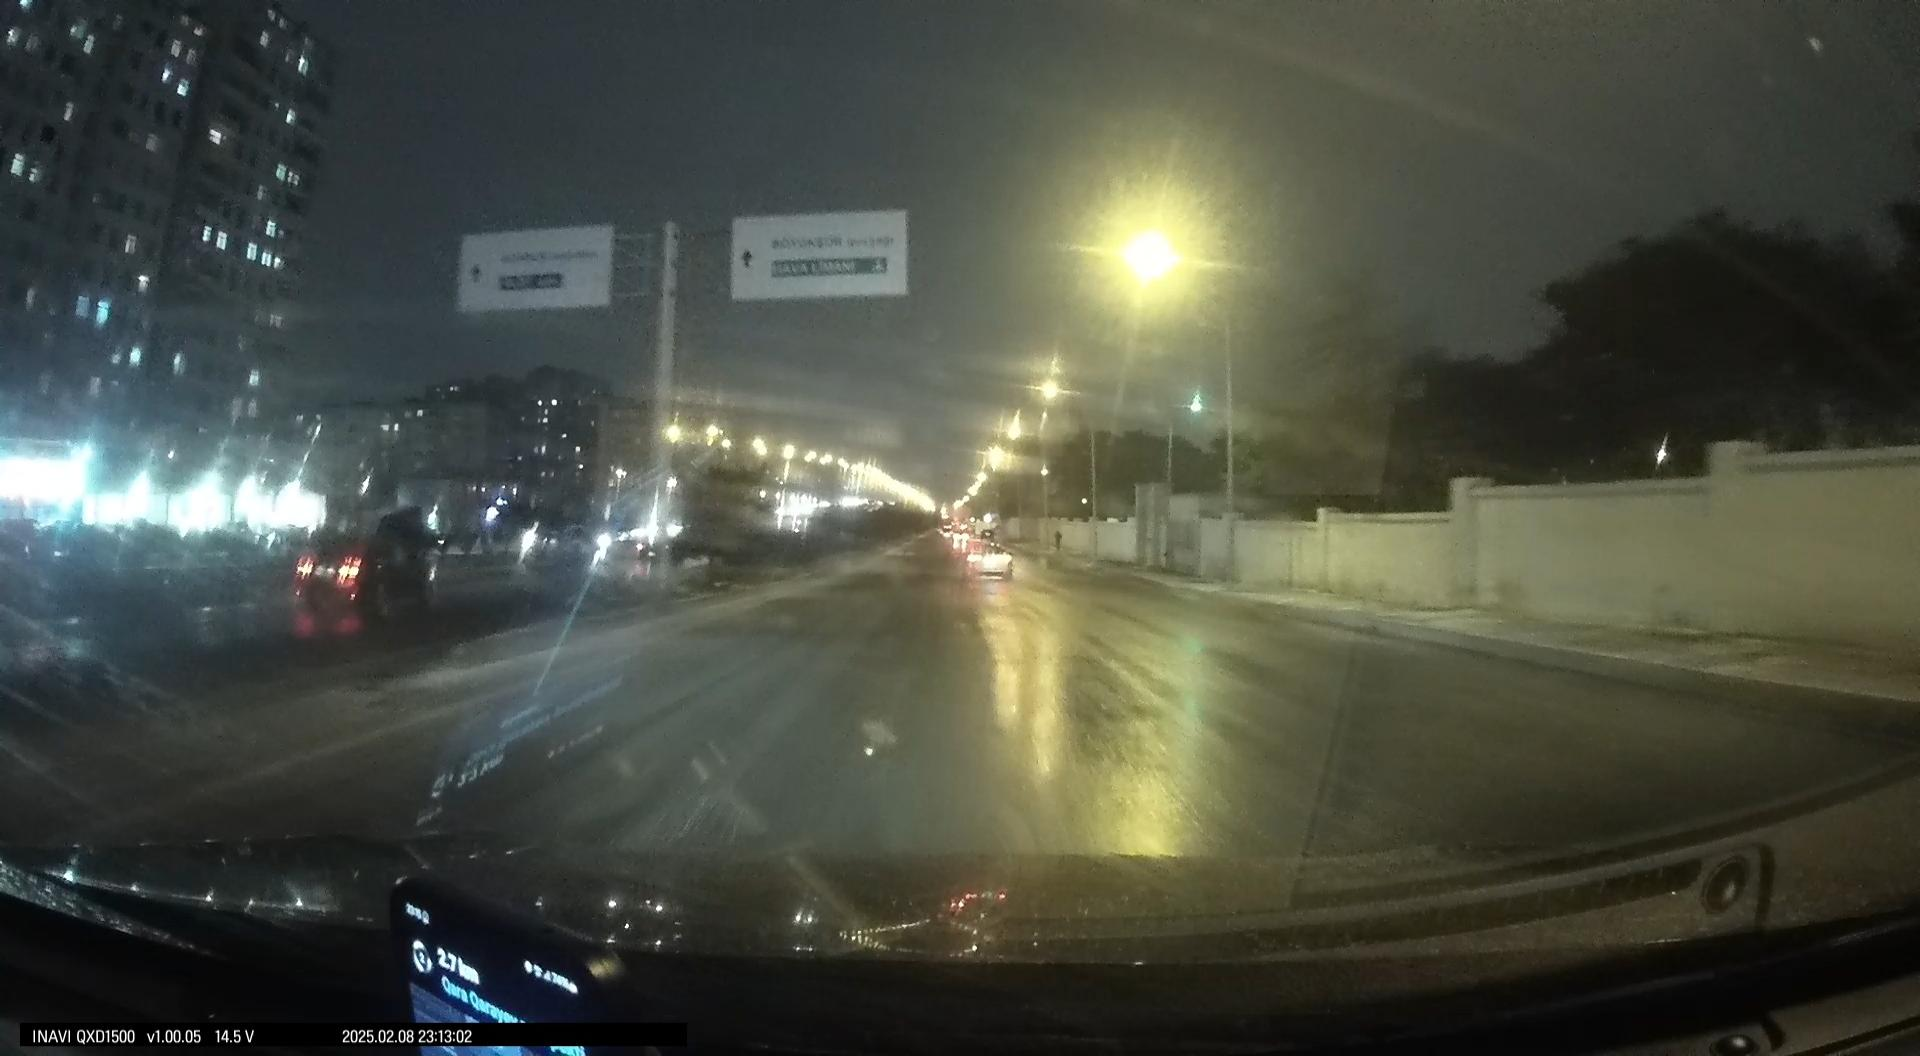banner: (729, 209, 909, 303), (453, 225, 613, 311)
